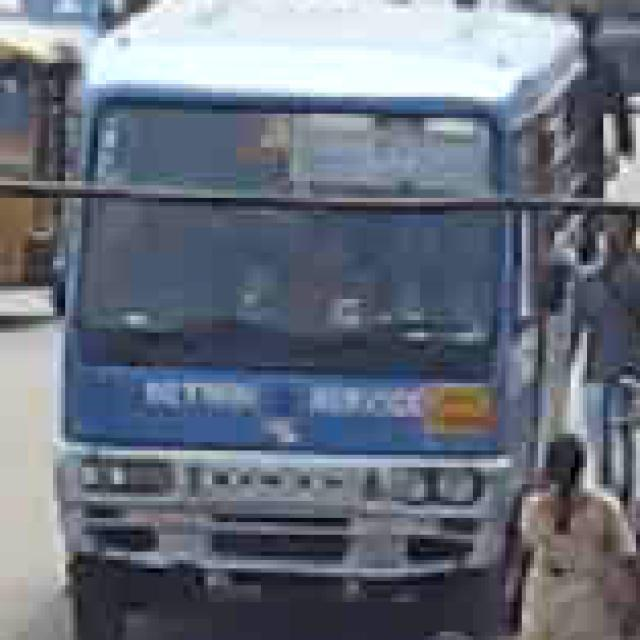bus_front: (54, 0, 600, 636)
